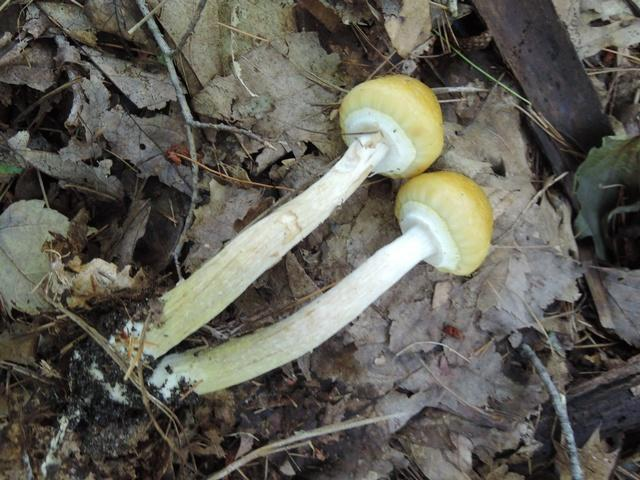Edible Mushroom: (106, 73, 494, 400)
